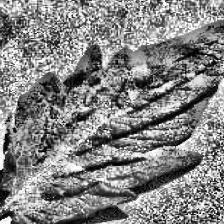leaf mold: (2, 2, 224, 224)
